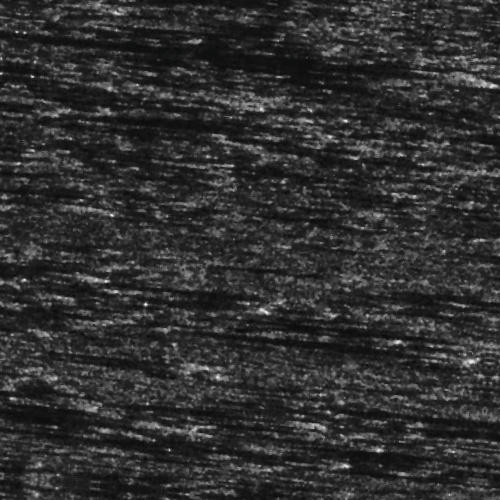object: (370, 48, 485, 61), (40, 407, 133, 420), (137, 427, 220, 440), (424, 312, 500, 325), (403, 144, 486, 153), (34, 219, 107, 226), (332, 431, 415, 436), (289, 413, 362, 418), (434, 332, 497, 337), (168, 365, 221, 370), (17, 348, 58, 353), (202, 140, 243, 143)
shadow: (75, 48, 427, 61), (281, 312, 466, 325), (0, 427, 179, 440), (301, 144, 445, 153), (232, 332, 465, 337), (0, 407, 86, 420), (158, 413, 325, 418), (265, 431, 373, 436), (87, 365, 194, 370), (0, 219, 70, 226), (68, 140, 223, 143), (370, 396, 500, 399), (468, 270, 500, 279), (0, 348, 38, 353), (478, 10, 500, 17)
